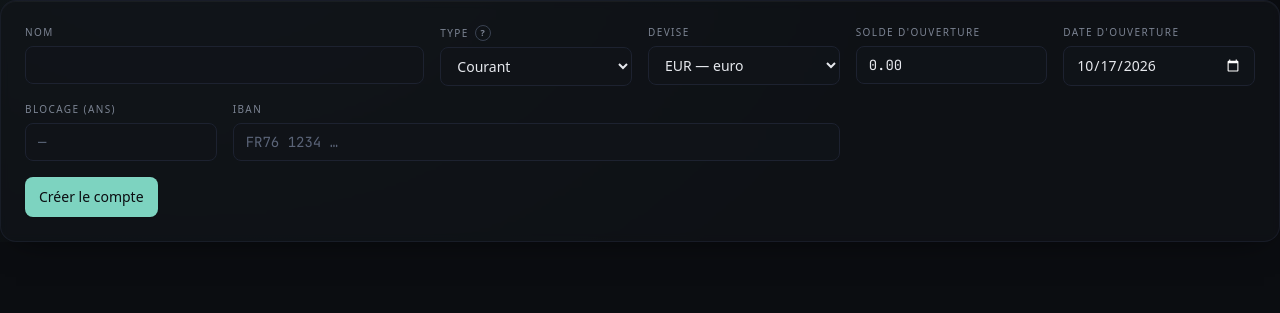
it: AccountForm › blocks submit and surfaces an error when opening balance is unparseable
Type "Livret" into the field below "Nom" at (225, 65), box left=25, top=46, right=424, bottom=84
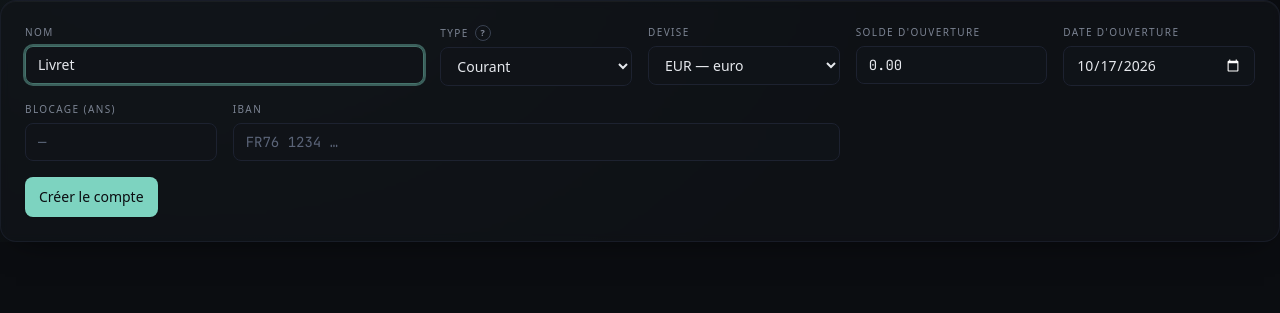
Replace the text in the field below "Solde d'ouverture" with "abc" at (952, 65), box left=856, top=46, right=1047, bottom=84
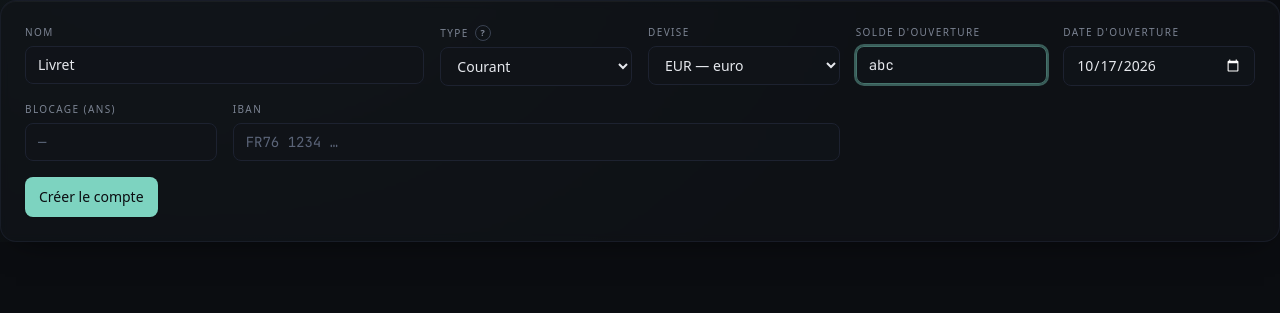
Type "2026-05-01" into the date field at (1159, 66), box left=1063, top=46, right=1255, bottom=86
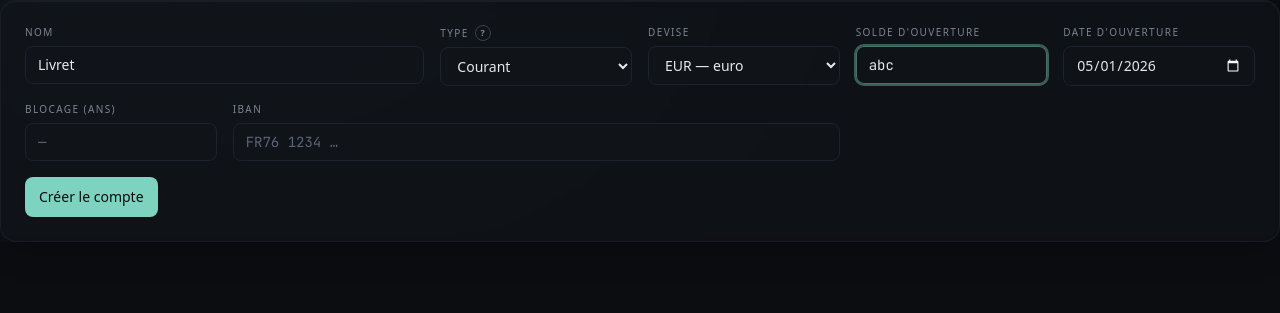
Click the button "Créer le compte" at (91, 197), box left=25, top=177, right=158, bottom=217
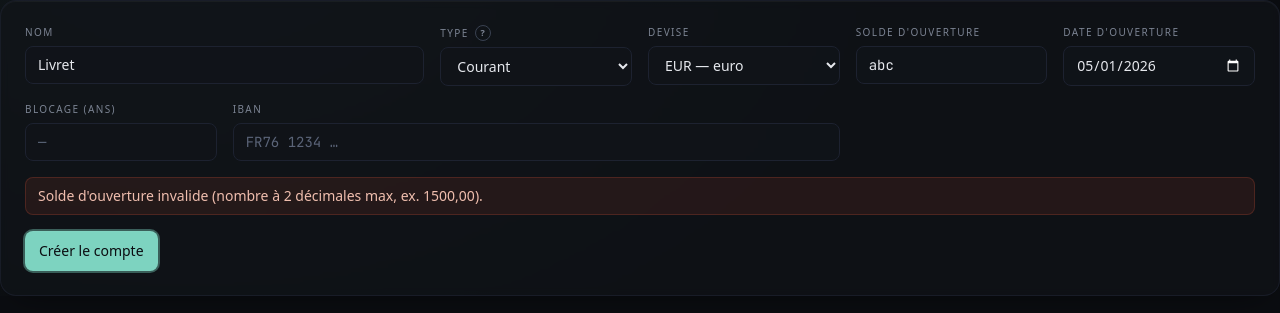
Expected: the text "solde d.ouverture invalide" is shown, left=38, top=186, right=483, bottom=205
